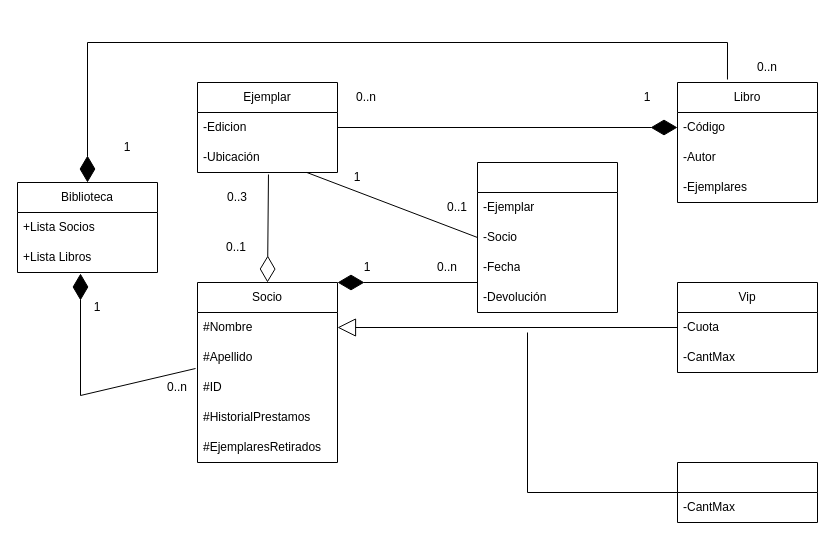
The diagram is 835 pixels wide and 540 high, and some of its shapes have lost their labels. Here are the shapes that lost their labels. From the top down, the box of each, then its label:
(476, 162, 618, 312): Prestamo
(676, 462, 818, 522): Clasico
